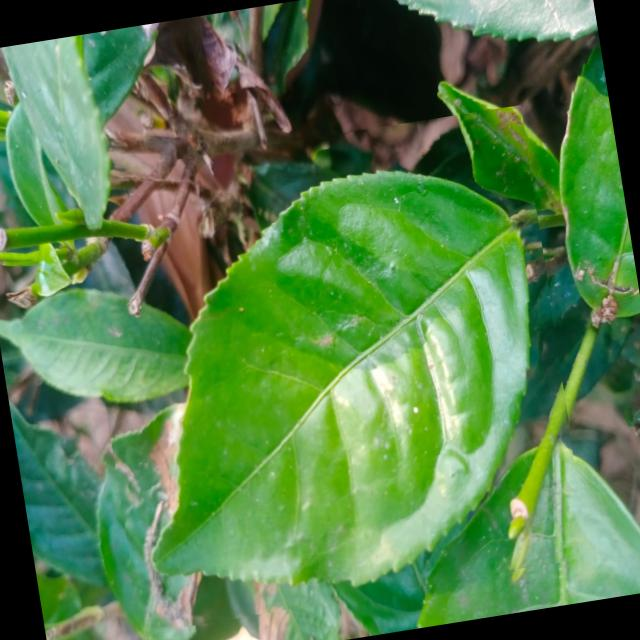Category D(7+ days, Not for Tea): (70, 104, 594, 634)
